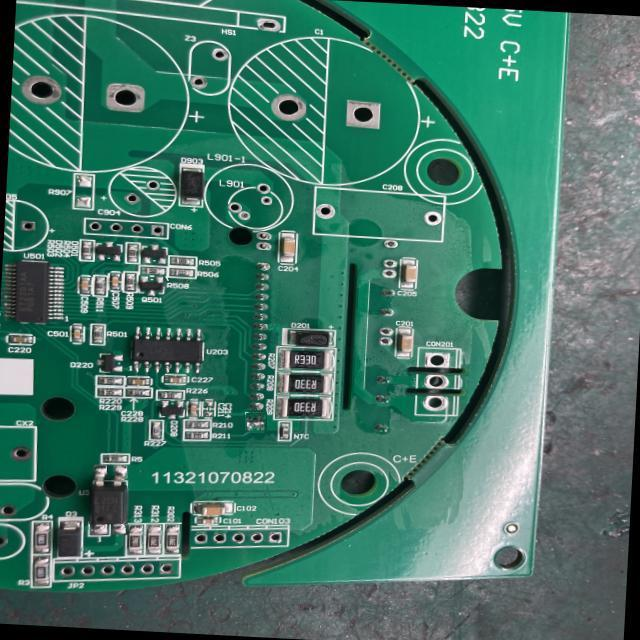damged: (246, 411, 267, 433)
